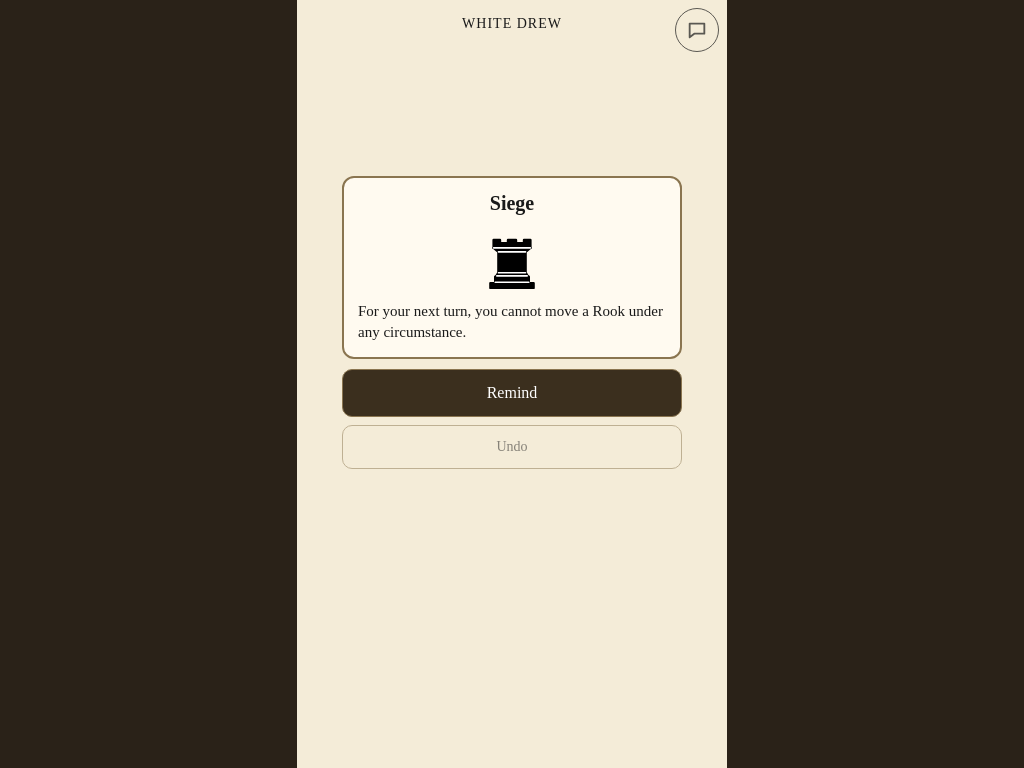
Test: the drawn card view opens the form with the card
Click the button named "Feedback about this card".
click(697, 30)  # box [675, 8, 719, 52]
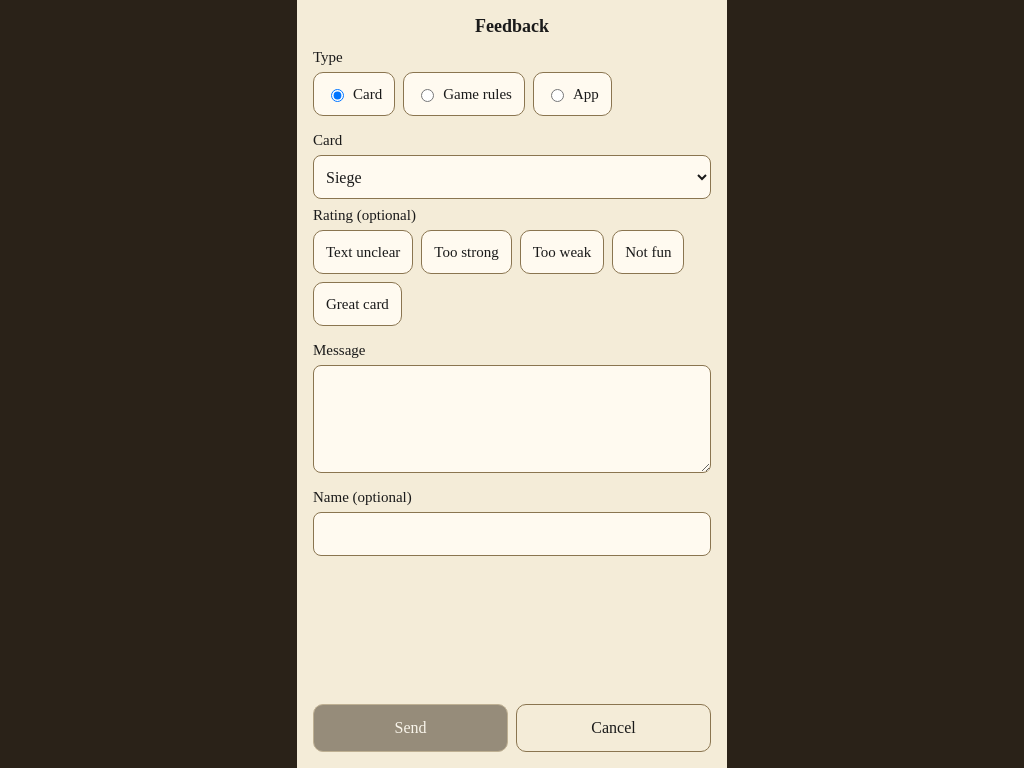
Expected: the radio button labelled "Card" is checked, [331, 89, 344, 102]
Expected: the dropdown labelled "Card" shows "Siege", [313, 155, 711, 199]
